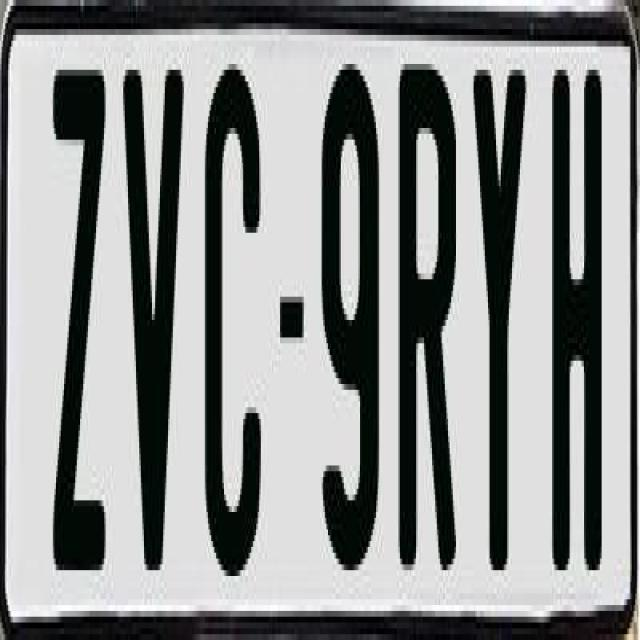9: (320, 58, 378, 599)
C: (203, 47, 259, 570)
H: (547, 58, 597, 582)
V: (119, 58, 182, 559)
Y: (469, 70, 525, 606)
Z: (53, 70, 114, 606)
